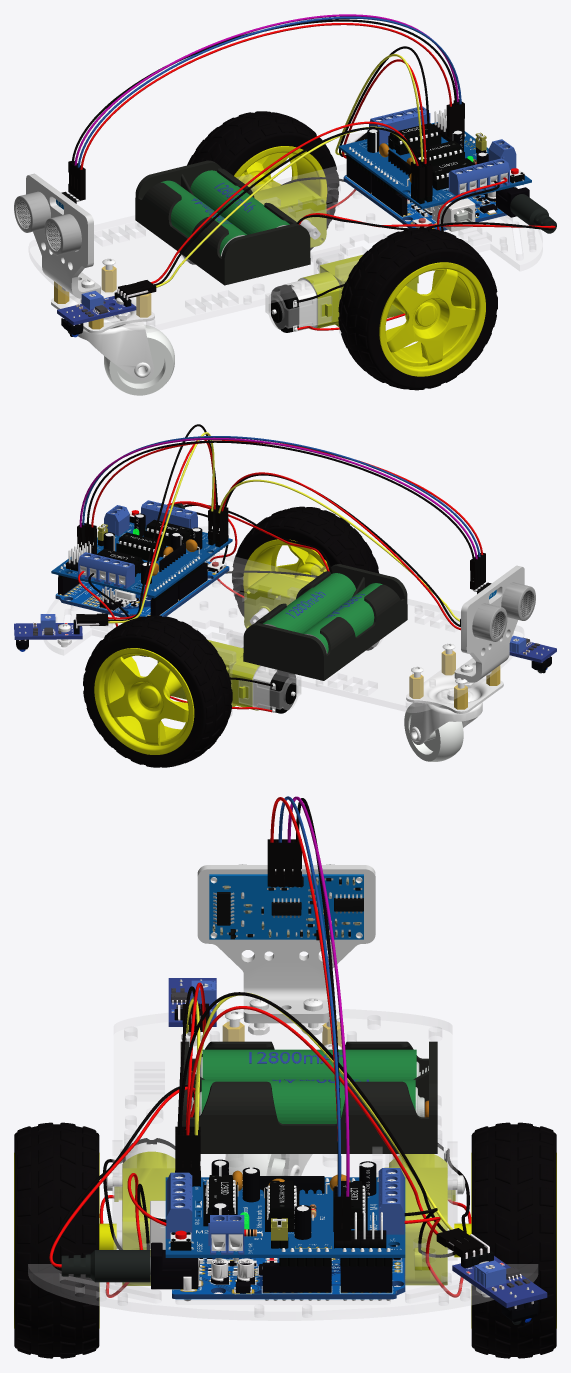
The model's file is robot-fast.glb.
The picture shows the model from 3 angles, top to bottom: view 1: azimuth 30°, elevation 25°; view 2: azimuth 150°, elevation 25°; view 3: azimuth 270°, elevation 25°; orthographic projection. The views are drawn at different scales.
Visible parts, largest first — view 1: Chassi_Metal.002_0, Roda.004, Chassi_led_preto.003_0, Chassi_PCB_topo.004_0; view 2: Chassi_Metal.002_0, Roda.004, Chassi_led_preto.003_0, Chassi_PCB_topo.004_0; view 3: Chassi_Metal.002_0, Chassi_led_preto.003_0, Roda.004, Chassi_PCB_topo.004_0.
Boxes of the visible parts, x1=… form: Chassi_Metal.002_0: x1=14, y1=14, x2=556, y2=395; Roda.004: x1=187, y1=111, x2=497, y2=390; Chassi_led_preto.003_0: x1=29, y1=133, x2=542, y2=337; Chassi_PCB_topo.004_0: x1=344, y1=175, x2=503, y2=229; Chassi_Metal.002_0: x1=14, y1=424, x2=556, y2=761; Roda.004: x1=83, y1=506, x2=379, y2=767; Chassi_led_preto.003_0: x1=20, y1=526, x2=547, y2=716; Chassi_PCB_topo.004_0: x1=56, y1=561, x2=229, y2=616; Chassi_Metal.002_0: x1=49, y1=796, x2=547, y2=1325; Chassi_led_preto.003_0: x1=28, y1=1009, x2=537, y2=1324; Roda.004: x1=14, y1=1122, x2=556, y2=1358; Chassi_PCB_topo.004_0: x1=172, y1=1258, x2=405, y2=1294.
Bounding box in the file's own units: 0.226 × 0.1466 × 0.1585.
Materials: 7 (7 with a texture image).
